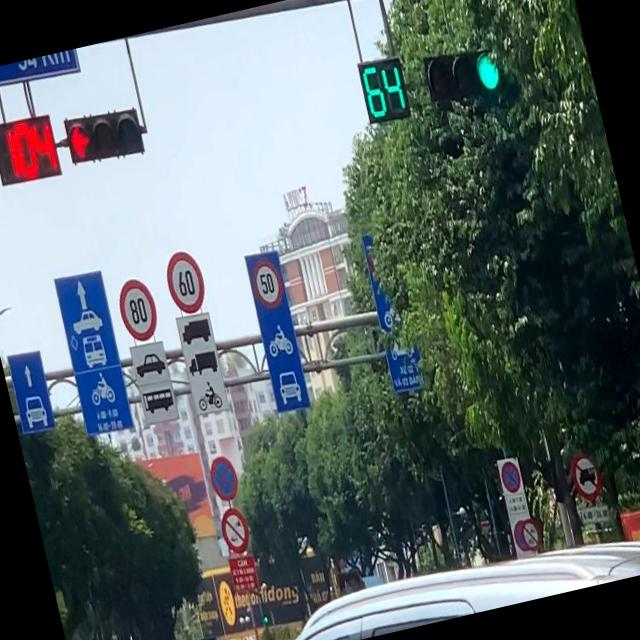P-127: (114, 274, 164, 346), (162, 246, 210, 317)
P-130: (207, 453, 240, 501)
